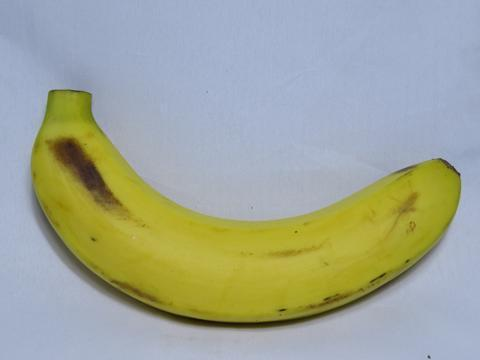freshripe: (23, 80, 462, 339)
